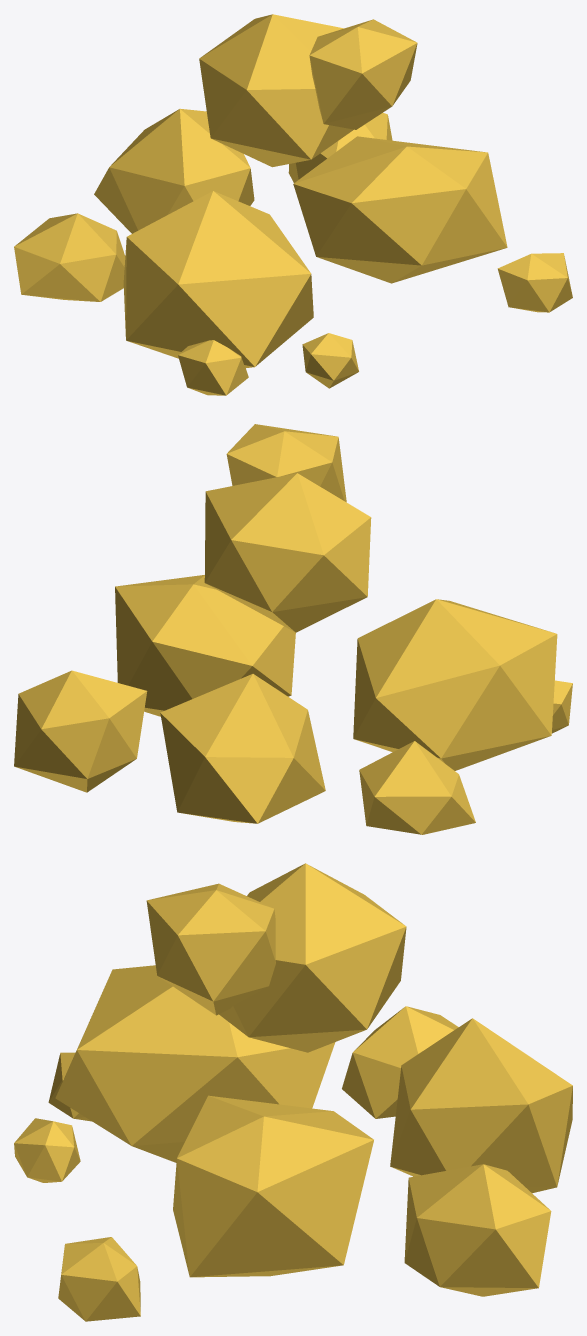
Rendered from ore_gold.glb.
3 views of the same model, one above another, from view 1: azimuth 30°, elevation 25°; view 2: azimuth 150°, elevation 25°; view 3: azimuth 270°, elevation 25° (orthographic). The views are drawn at different scales.
Visible parts, largest first — view 1: ore_gold; view 2: ore_gold; view 3: ore_gold.
Boxes of the visible parts, left/top/right/bottom form: ore_gold: left=14, top=14, right=572, bottom=395; ore_gold: left=14, top=424, right=572, bottom=834; ore_gold: left=14, top=863, right=572, bottom=1321.
Size of the model in its own units: 0.4723 by 0.3174 by 0.4353.
